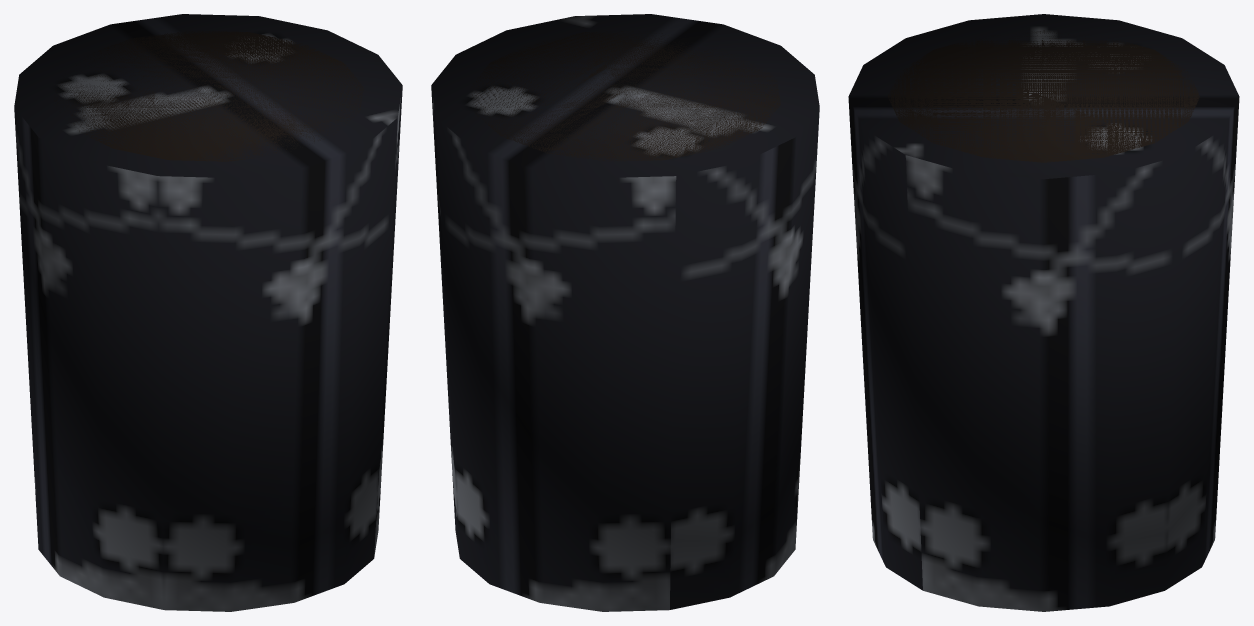
Rendered from Deco_Mug.gltf.
3 views of the same model, side by side, from view 1: azimuth 30°, elevation 25°; view 2: azimuth 150°, elevation 25°; view 3: azimuth 270°, elevation 25° (orthographic).
Visible parts, largest first — view 1: Deco_Mug; view 2: Deco_Mug; view 3: Deco_Mug.
Part boxes in pixels (box(x1,y1,x2,y2)): Deco_Mug: box(14, 14, 402, 611); Deco_Mug: box(431, 14, 819, 611); Deco_Mug: box(848, 14, 1239, 611).
Size of the model in its own units: 0.08 by 0.1 by 0.08.
Materials: 2 (1 with a texture image).
